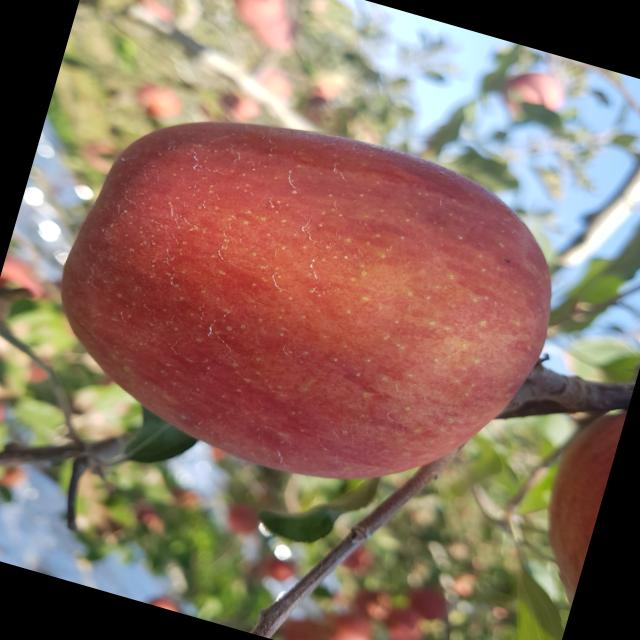fresh: (10, 60, 600, 550)
